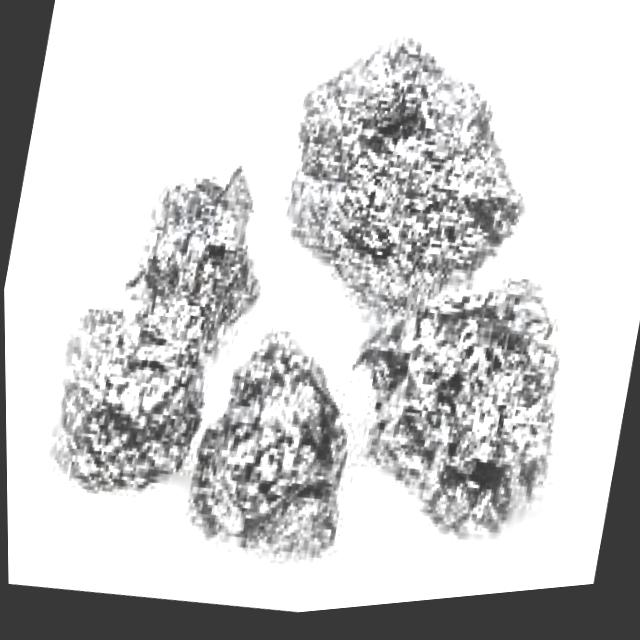Foil: (250, 13, 556, 369), (29, 154, 288, 530), (329, 247, 593, 585), (153, 316, 392, 606)
